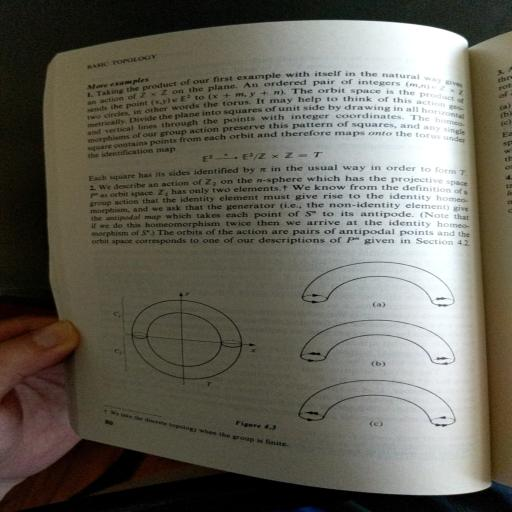paper: (15, 12, 512, 512)
